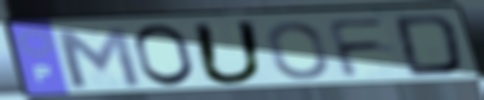D: (391, 13, 466, 79)
F: (323, 16, 393, 80)
M: (49, 25, 146, 90)
O: (131, 22, 198, 89), (264, 19, 331, 81)
U: (188, 19, 268, 87)
